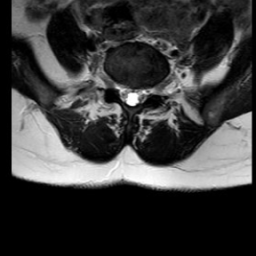CCS_normal: (128, 78, 136, 113)
LFS_normal: (147, 72, 156, 104)
LLS_normal: (137, 78, 147, 111)
RFS_normal: (110, 69, 118, 97)
RLS_normal: (118, 77, 128, 109)
